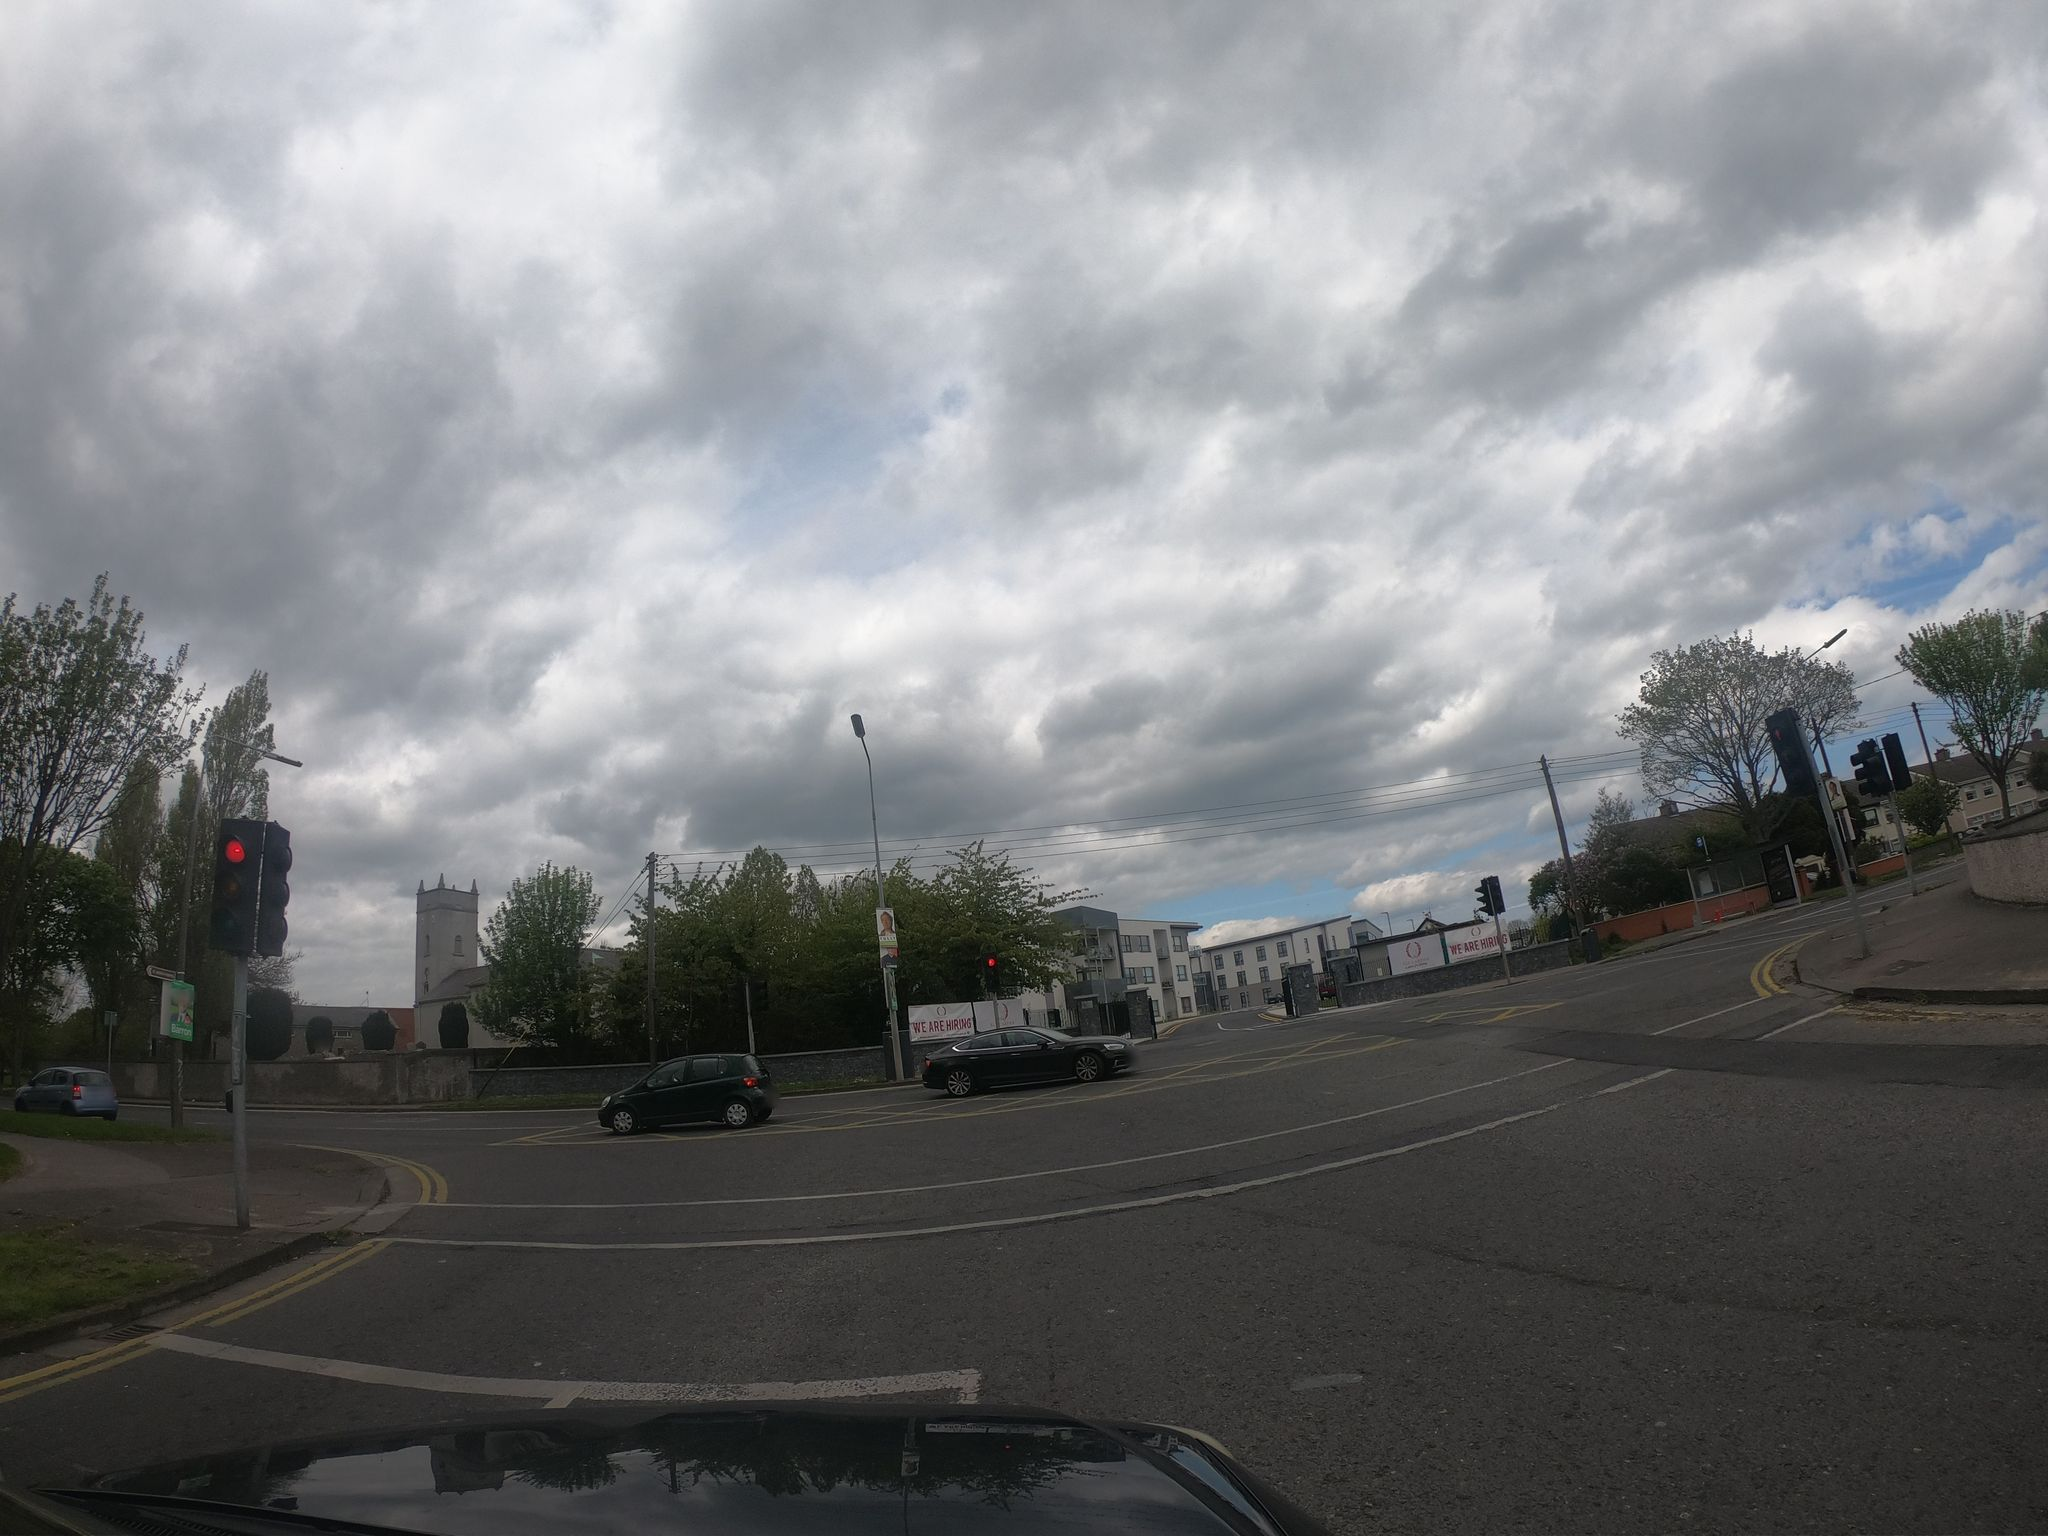vinyl banner: (901, 986, 993, 1046), (1434, 912, 1519, 975)
